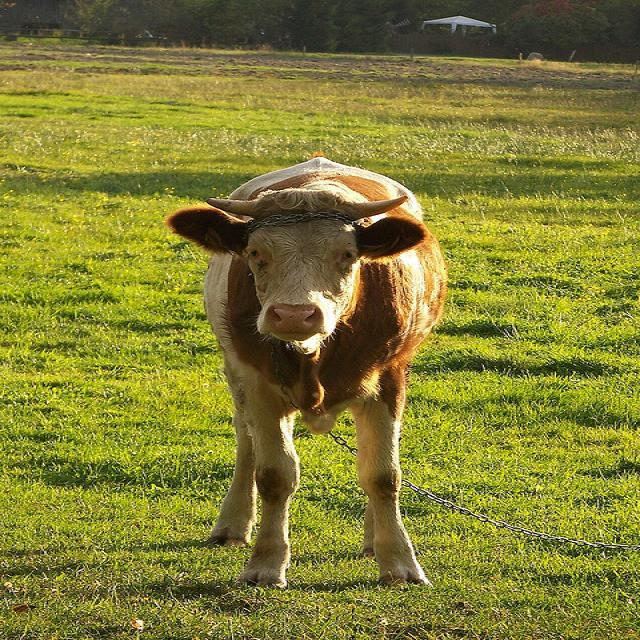cow: (167, 156, 441, 585)
